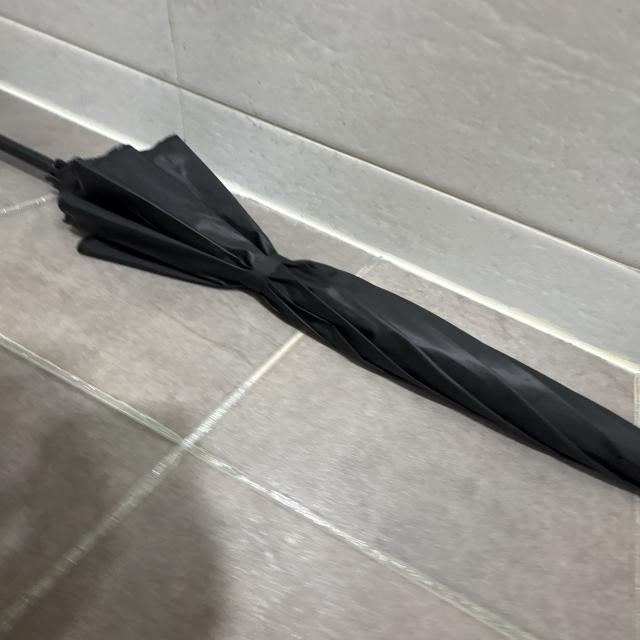umbrella: (2, 132, 640, 492)
